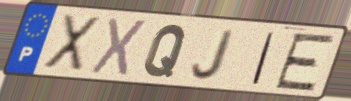E: (271, 32, 338, 93)
I: (249, 30, 278, 87)
J: (190, 27, 238, 81)
Q: (141, 23, 190, 79)
X: (87, 16, 151, 79), (40, 13, 103, 75)
